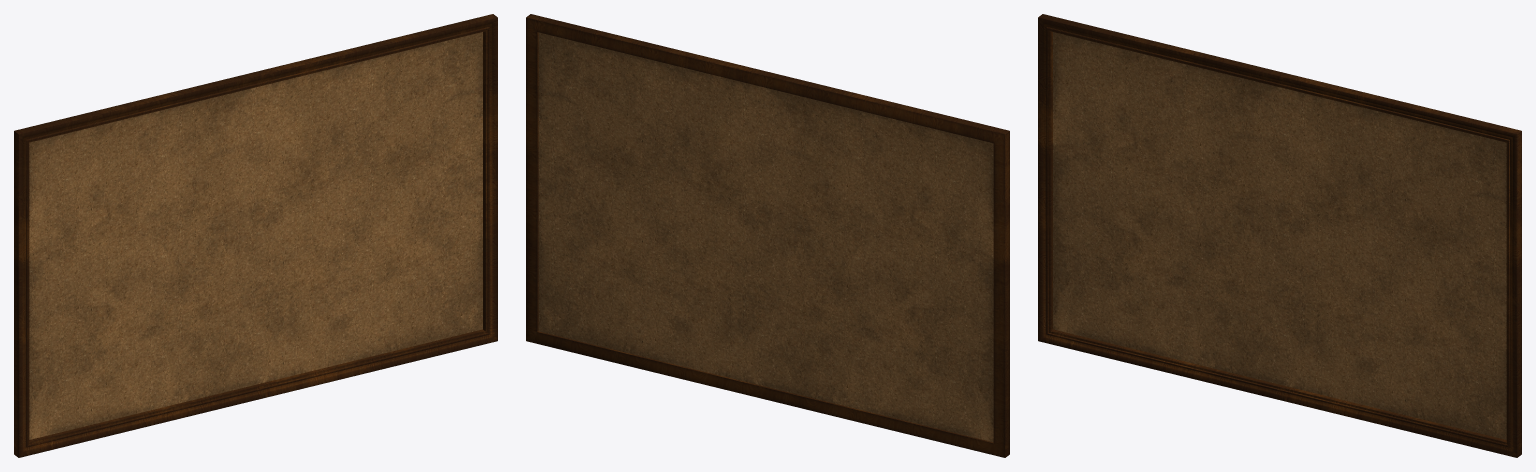
File: board.glb
The picture shows the model from 3 angles, left to right: view 1: azimuth 30°, elevation 25°; view 2: azimuth 150°, elevation 25°; view 3: azimuth 330°, elevation 25°; orthographic projection.
Visible parts, largest first — view 1: Cork_2, Frame_3; view 2: Cork_2, Frame_3; view 3: Cork_2, Frame_3.
Boxes of the visible parts, bbox=[...] form: Cork_2: bbox=[29, 32, 482, 439]; Frame_3: bbox=[14, 14, 497, 457]; Cork_2: bbox=[538, 32, 993, 442]; Frame_3: bbox=[526, 14, 1009, 457]; Cork_2: bbox=[1053, 32, 1506, 439]; Frame_3: bbox=[1038, 14, 1521, 457].
Size of the model in its own units: 2.01 by 1.3 by 0.0352.
Materials: 1 (1 with a texture image).
